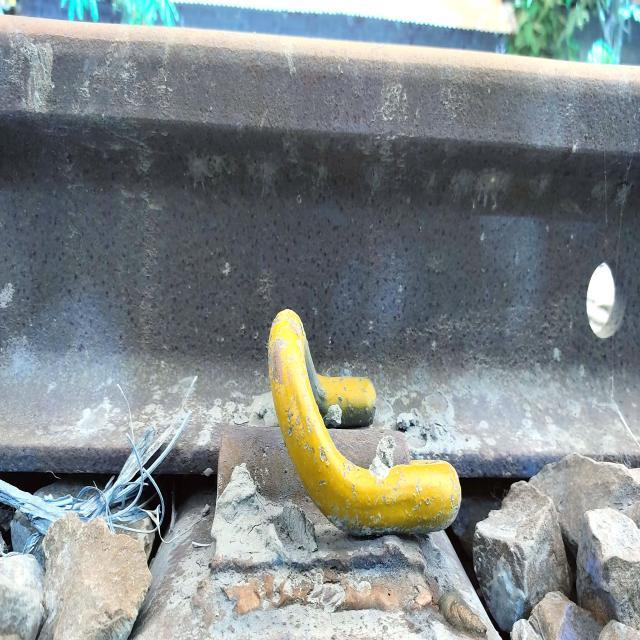Good Fasteners: (201, 290, 469, 607)
